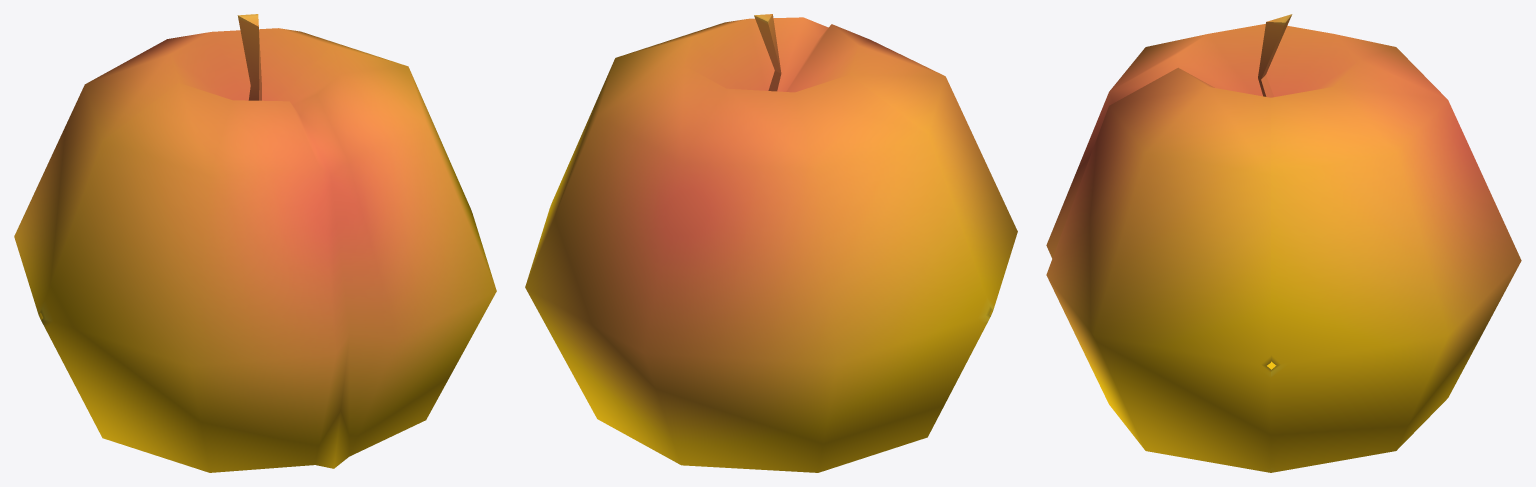
Rendered from Apricot.FBX.
The picture shows the model from 3 angles, left to right: view 1: azimuth 30°, elevation 25°; view 2: azimuth 150°, elevation 25°; view 3: azimuth 270°, elevation 25°; orthographic projection. The views are drawn at different scales.
Parts seen in each view (by area): view 1: Apricot; view 2: Apricot; view 3: Apricot.
Part boxes in pixels (x1=…): Apricot: x1=14, y1=14, x2=496, y2=472; Apricot: x1=525, y1=14, x2=1017, y2=472; Apricot: x1=1046, y1=14, x2=1521, y2=472.
Bounding box in the file's own units: 5.05 × 4.6 × 4.78.
